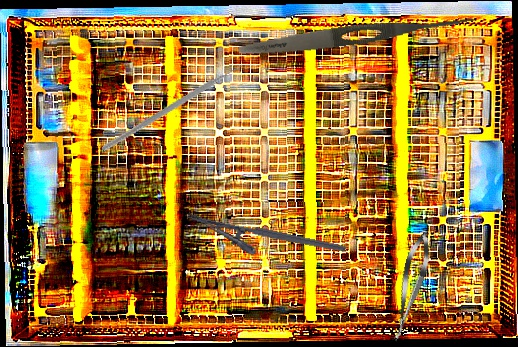Chopper: (101, 25, 254, 195)
Dressing Forceps: (237, 7, 476, 62)
Micro Scissor: (385, 229, 436, 345)
Needle Holder: (181, 211, 347, 275)
